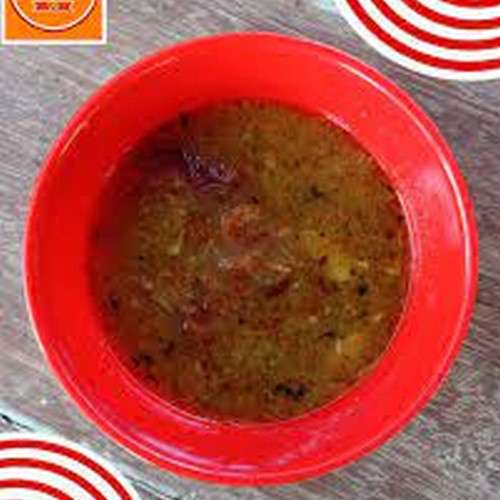komoh: (121, 115, 382, 398)
